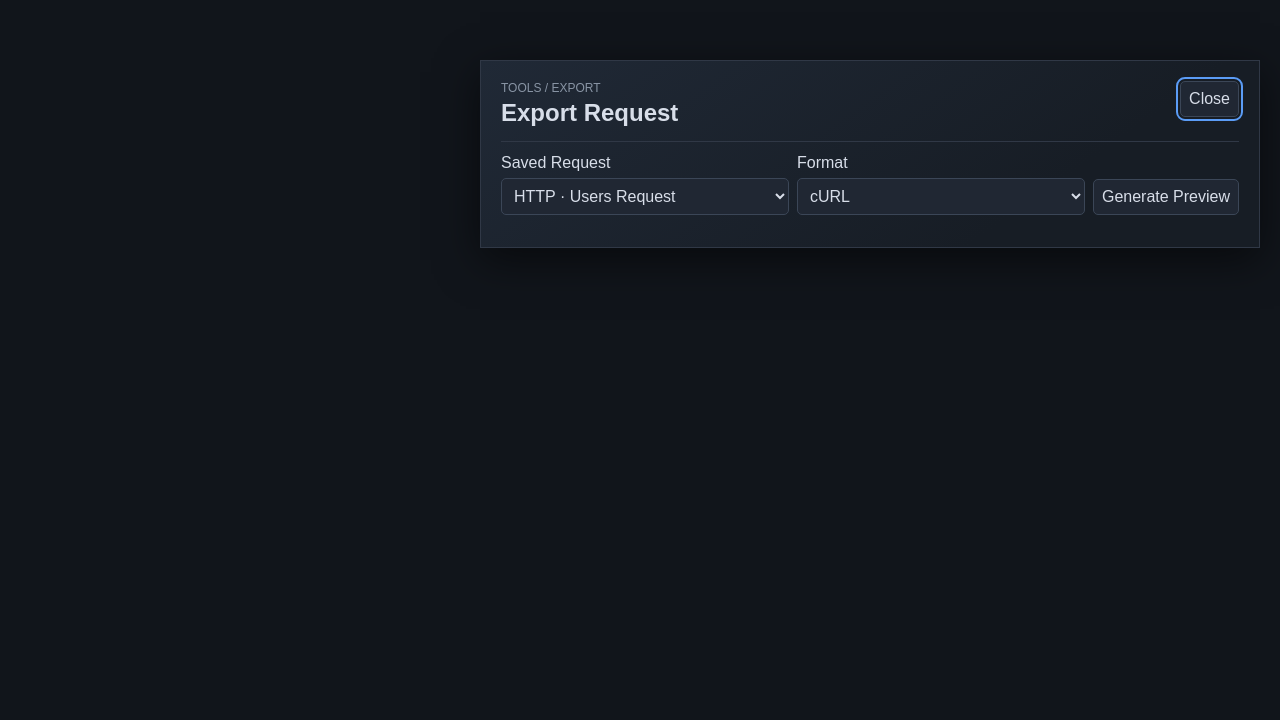
Scenario: previews sanitized cURL and saves only the Main-owned preview capability
The image size is (1280, 720).
Check: the dropdown labelled "Saved Request" shows "HTTP · Users Request", box [501,178,789,215]
Check: the dropdown labelled "Format" shows "cURL", box [797,178,1085,215]
Click the button "Generate Preview".
click(1166, 197)  # box [1093,179,1239,215]
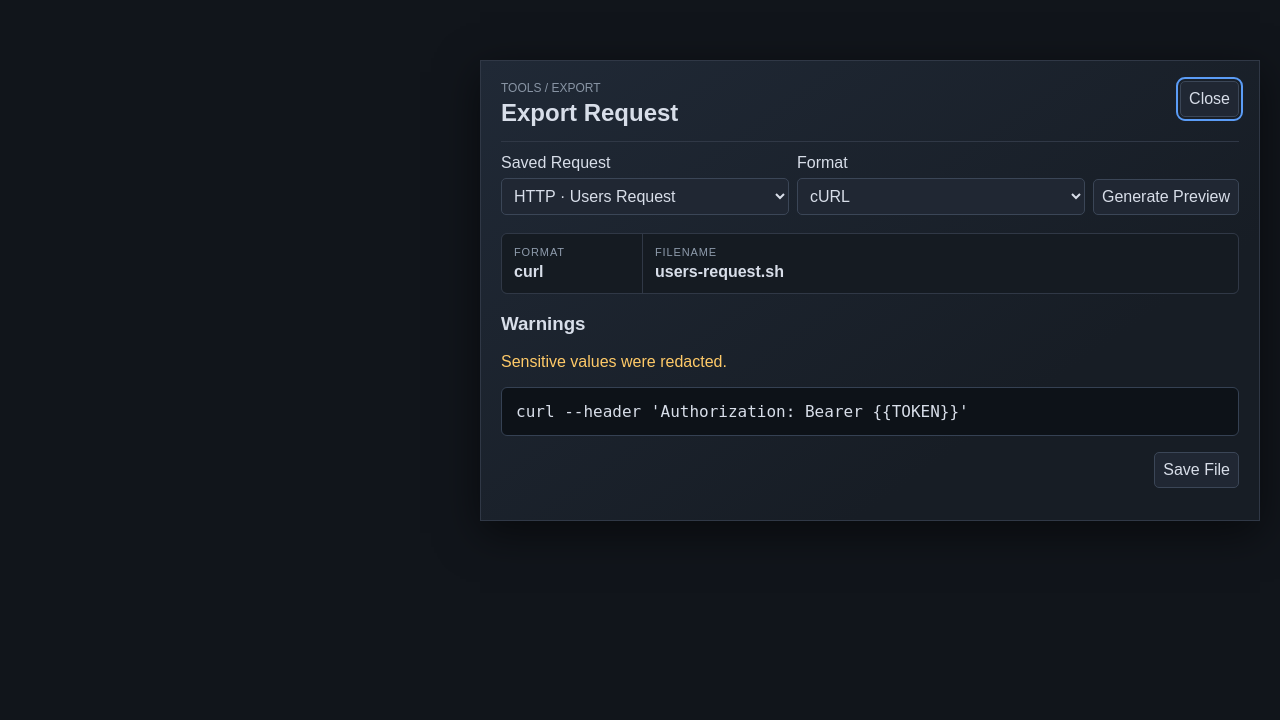
Check: the text "users-request.sh" is shown, box [655,263,784,280]
Check: the text "Sensitive values were redacted." is shown, box [501,353,727,370]
Check: the text named "Export content" shows "{{TOKEN}}", box [516,402,969,421]
Click the button "Save File".
click(1197, 470)  # box [1154,452,1239,488]
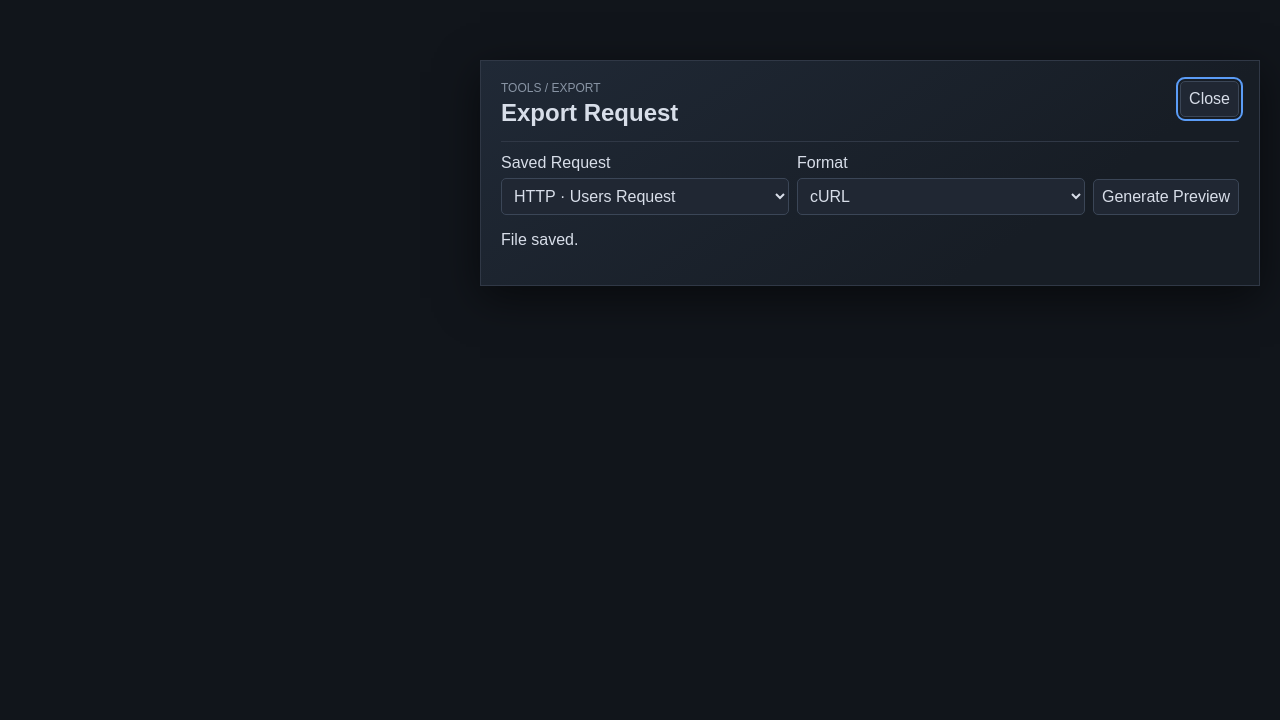
Check: the message reads "File saved.", box [501,231,578,248]
Check: the button "Save File" is gone
